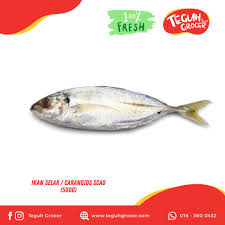Ikan Selar: (22, 83, 215, 133)
